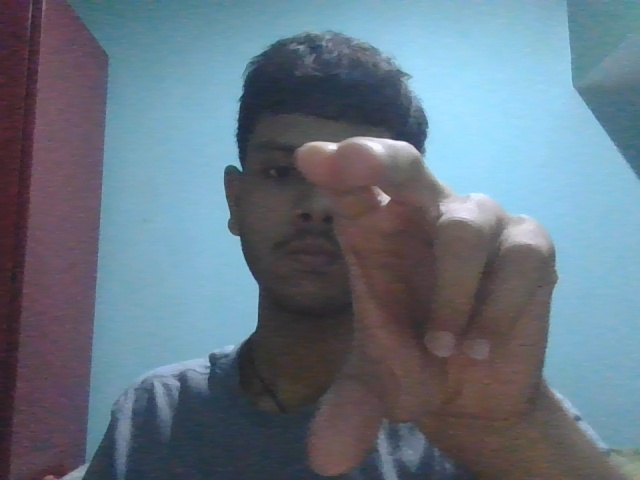no: (260, 123, 594, 463)
